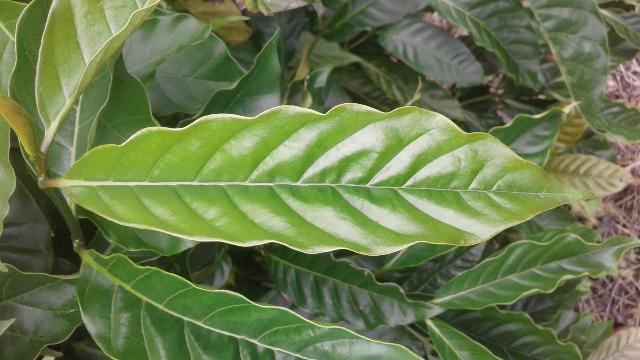healthy: (63, 103, 595, 254)
